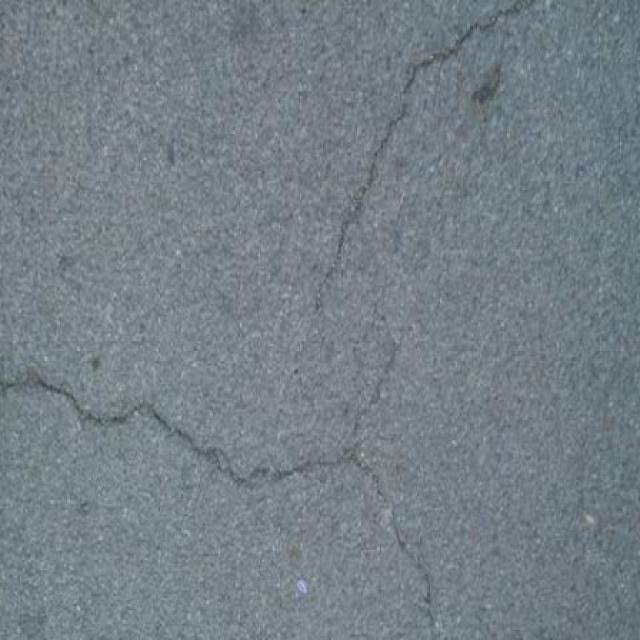Diagonal Crack: (0, 321, 457, 640), (294, 0, 564, 338)
